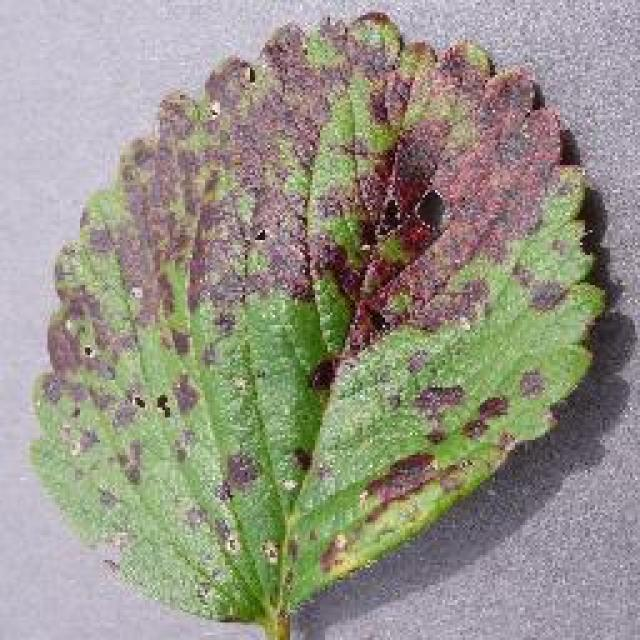Strawberry leaf scorch: (57, 52, 558, 440)
